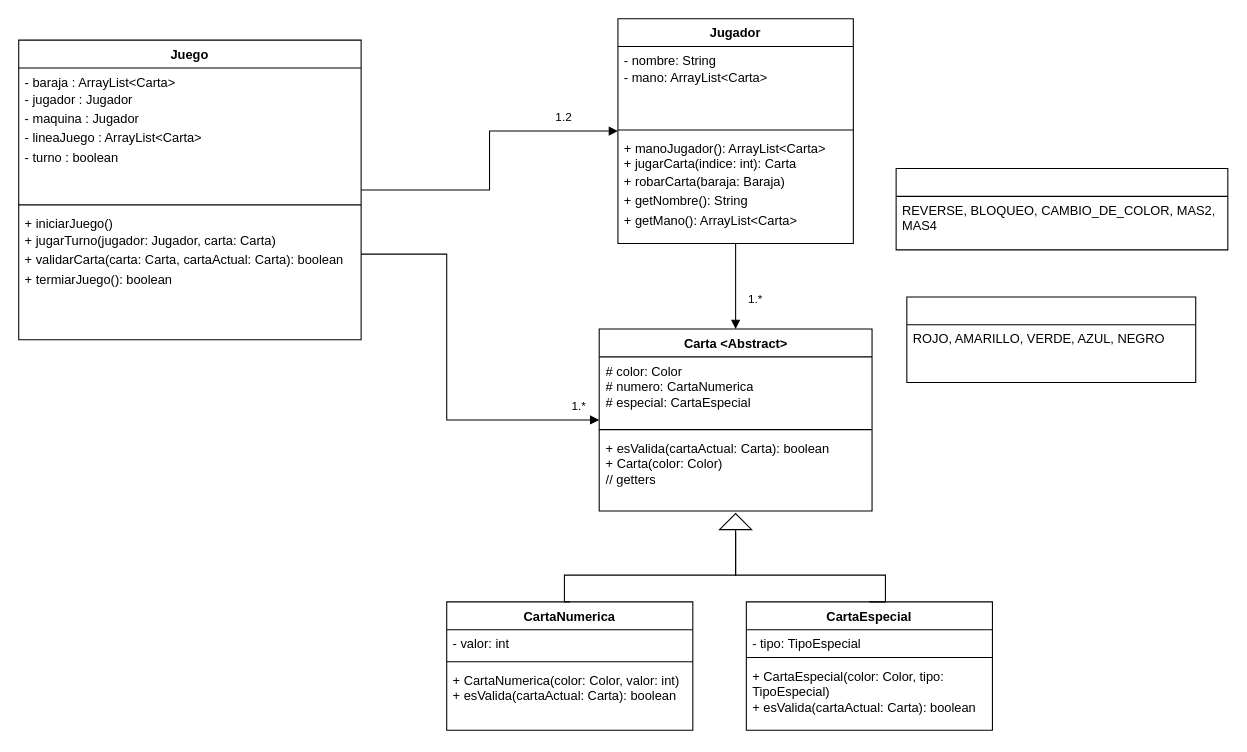
Image size: 1247x752. Some labels were removed from this diagram. The shapes that lost their labels are listed below. From the top down, each one's box as (x1, y1, x2, y2) in pixels, then its label:
(895, 167, 1228, 250): TipoEspecial <enum>
(906, 296, 1196, 383): Color <enum>
